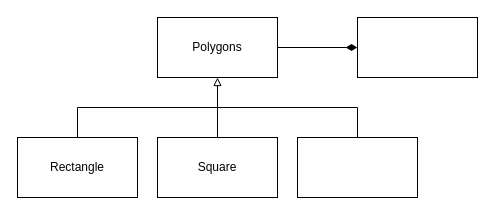
Image size: 495x215. Some labels were removed from this diagram. Each missing label, with the centre of its shape:
"DrawPolygons" goes at (x=417, y=47).
"Triangle" goes at (x=357, y=167).
